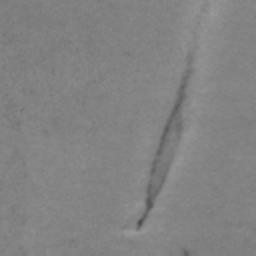Finishing roll printing: (136, 0, 211, 229)
